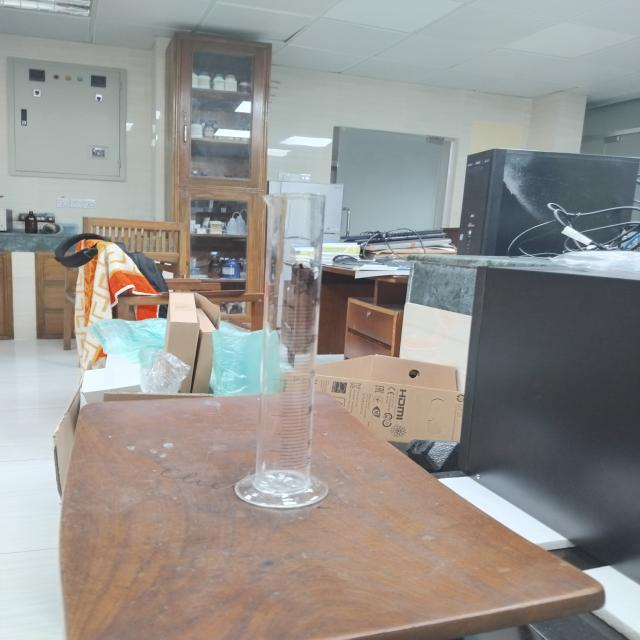Measuring_Cylinder: (184, 148, 390, 548)
